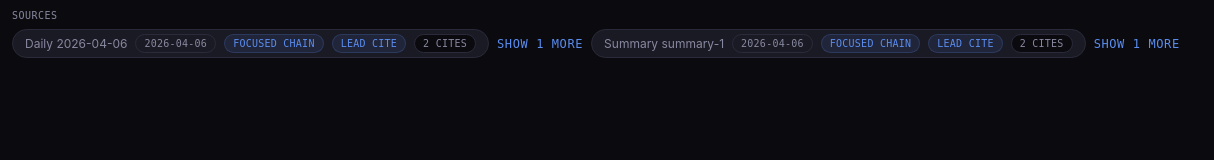
Test: ChatSources › reveals grouped focused-chain citations inline without losing the primary anchored pill
Expected: the text "Later report snippet" is not shown
Expected: the text "Related summary snippet" is not shown
Click the button with aria-label "Show related citations for Daily 2026-04-06" at (540, 44), box [497,36,583,52]
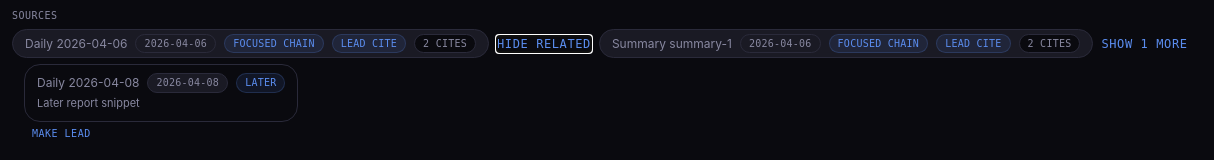
Click the button with aria-label "Show related citations for Summary summary-1" at (1145, 44), box [1102,36,1188,52]
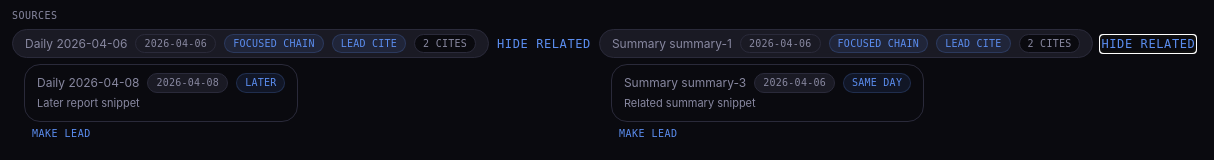
Expected: the text "Later report snippet" is shown, [37,95,140,113]
Expected: the text "Lead cite" is shown 2 times, [332,34,406,53]; [936,34,1010,53]
Expected: the text "Related summary snippet" is shown, [624,95,756,113]
Click the button with aria-label "Hide related citations for Daily 2026-04-06" at (544, 44), box [497,36,591,52]
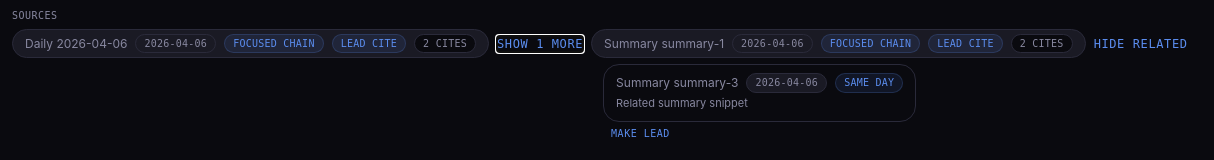
Click the button with aria-label "Hide related citations for Summary summary-1" at (1141, 44), box [1094,36,1188,52]
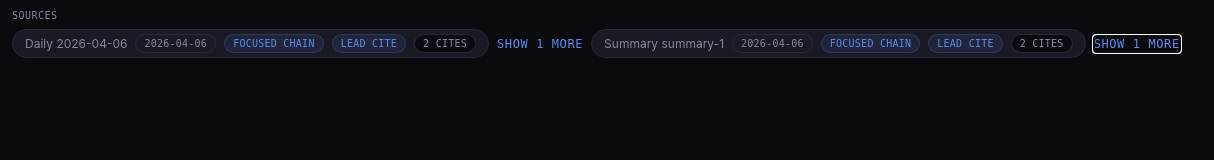
Expected: the link "Summary summary-3" is gone
Expected: the link "Related summary snippet" is gone
Expected: the link "Same day" is gone
